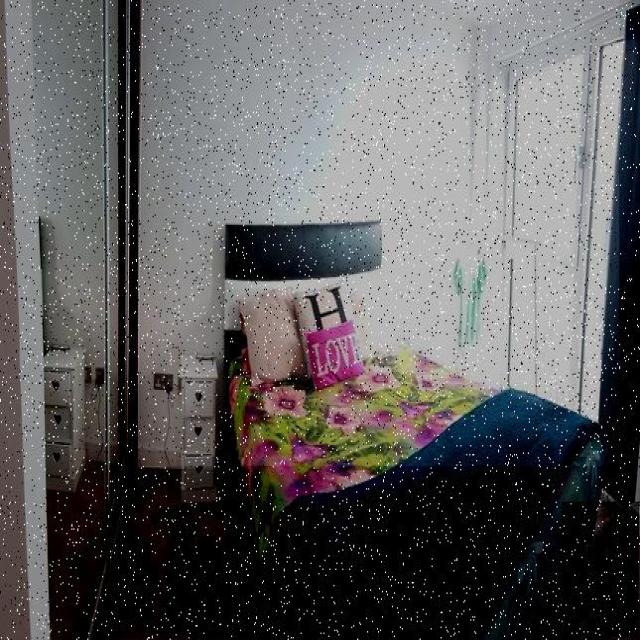Wall: (139, 0, 619, 466), (107, 469, 252, 639), (562, 502, 639, 637), (455, 240, 505, 387), (139, 381, 167, 467), (445, 1, 536, 24), (169, 390, 184, 469), (150, 360, 178, 383)
